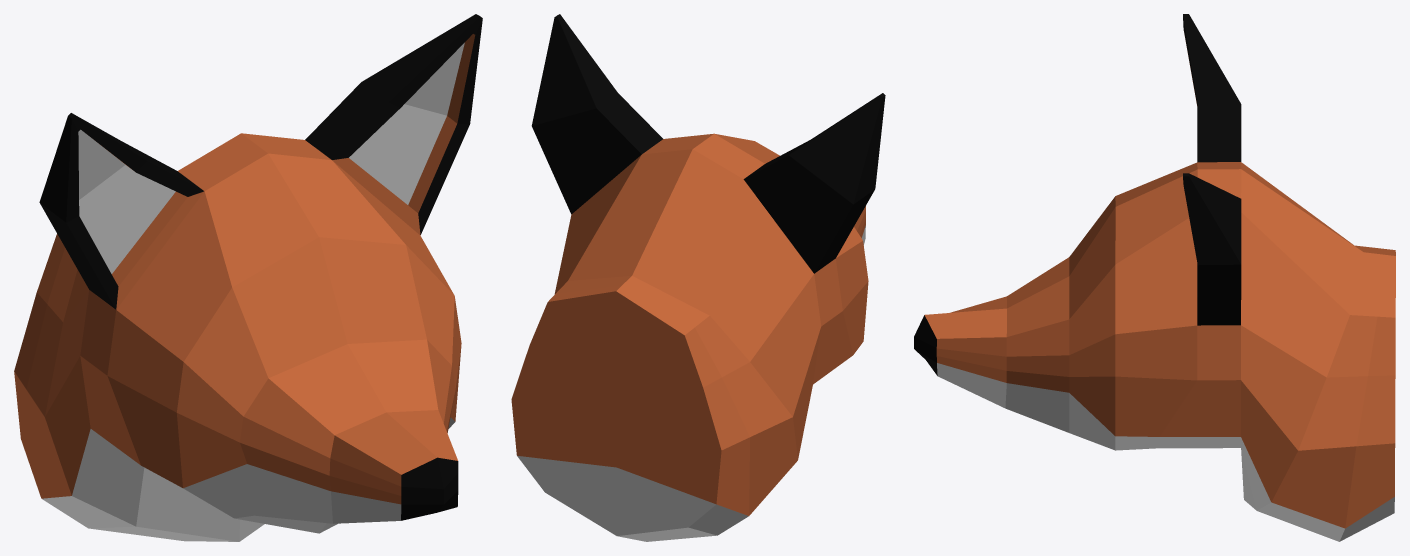
File: fox.fbx
3 renders of one model, left to right at view 1: azimuth 30°, elevation 25°; view 2: azimuth 150°, elevation 25°; view 3: azimuth 270°, elevation 25°, orthographic. The views are drawn at different scales.
Parts seen in each view (by area): view 1: pCube1; view 2: pCube1; view 3: pCube1.
Boxes of the visible parts, x1,y1,x2,y2 form: pCube1: [14, 14, 482, 541]; pCube1: [511, 14, 885, 541]; pCube1: [914, 14, 1395, 541].
Bounding box in the file's own units: 4.64 × 5.86 × 5.84.
